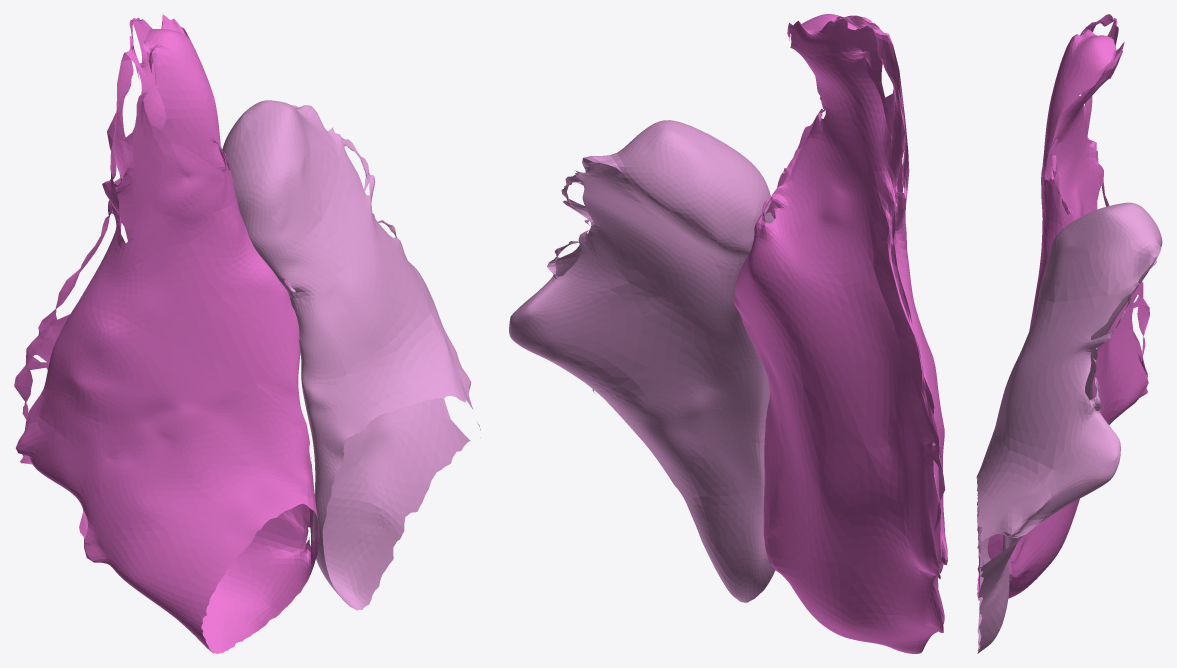
File: timo_interno.glb
The picture shows the model from 3 angles, left to right: view 1: azimuth 30°, elevation 25°; view 2: azimuth 150°, elevation 25°; view 3: azimuth 270°, elevation 25°; orthographic projection. The views are drawn at different scales.
Parts seen in each view (by area): view 1: right lobe of thymus, left lobe of thymus; view 2: right lobe of thymus, left lobe of thymus; view 3: left lobe of thymus, right lobe of thymus.
Boxes of the visible parts, <box> form: right lobe of thymus: <box>14,14,319,653</box>; left lobe of thymus: <box>222,100,480,610</box>; right lobe of thymus: <box>733,14,947,653</box>; left lobe of thymus: <box>509,120,775,602</box>; left lobe of thymus: <box>976,202,1162,653</box>; right lobe of thymus: <box>977,14,1149,600</box>.
Bounding box in the file's own units: 47.73 × 69.42 × 20.52.
